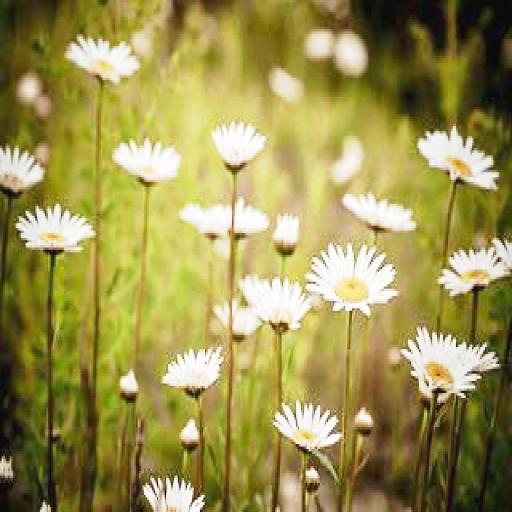daisy: (308, 245, 402, 313), (418, 128, 498, 184), (240, 272, 310, 332), (405, 338, 477, 396), (70, 27, 141, 85), (16, 206, 98, 255), (441, 242, 512, 293), (274, 400, 339, 449), (338, 192, 418, 230), (158, 347, 224, 391), (202, 121, 260, 165), (120, 141, 178, 184), (145, 475, 208, 512), (274, 211, 299, 250)
